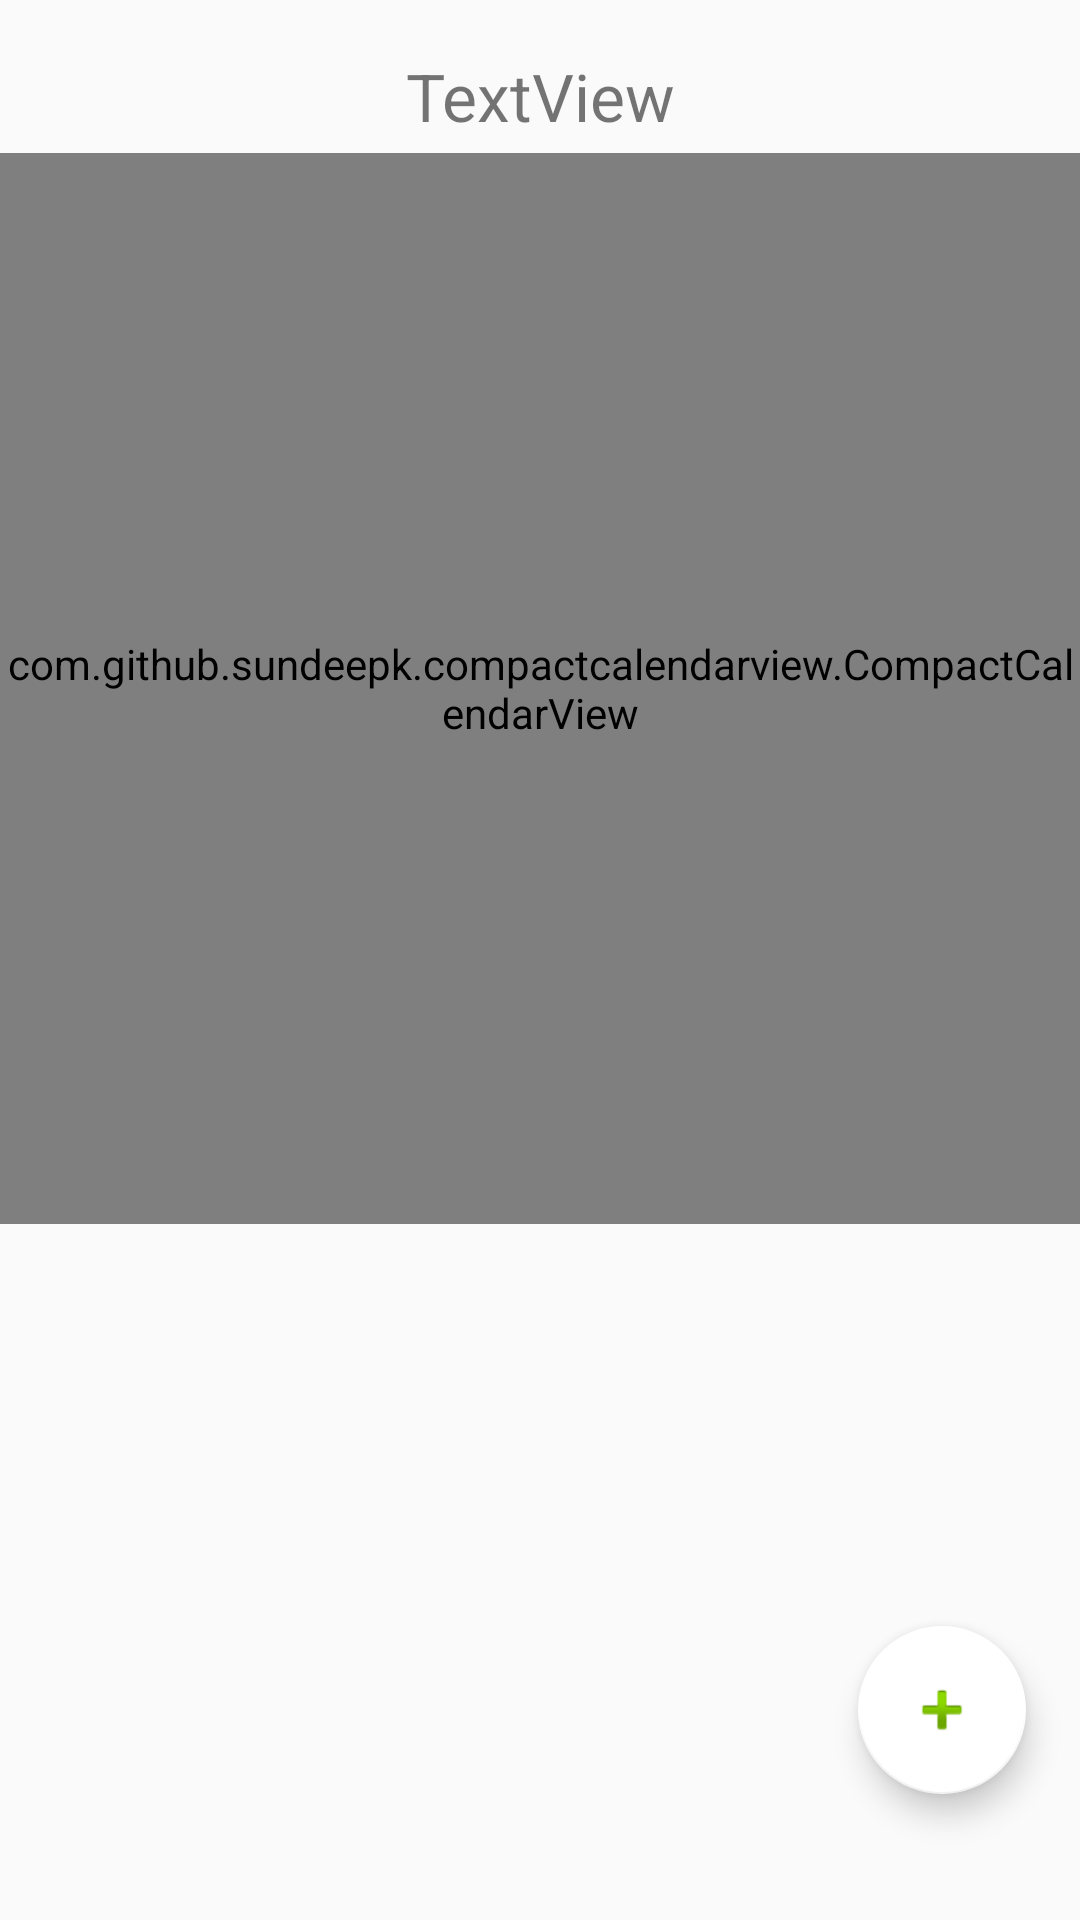

Where to tap for icons on this 1080px x 1920px app screen, as [x,y]:
add: [945,1742]
